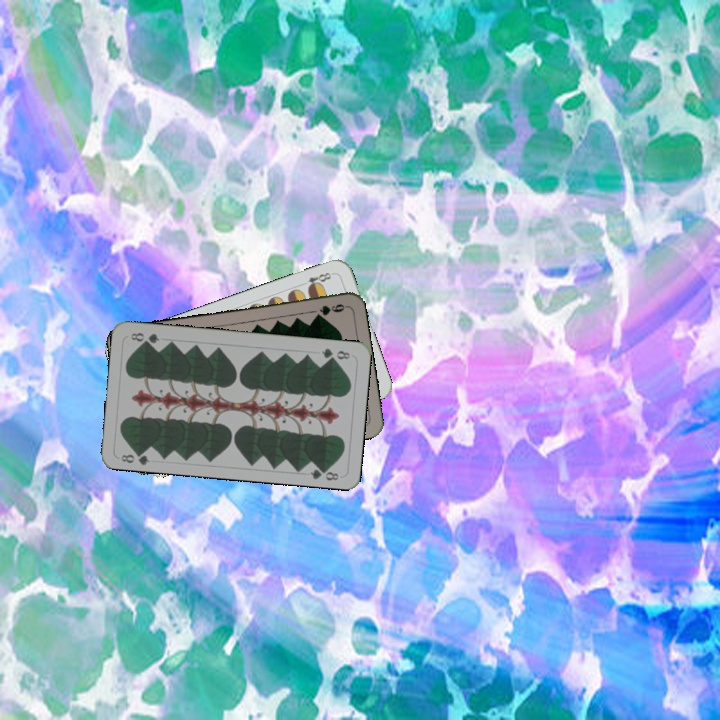E8: (297, 268, 336, 292)
G8: (117, 446, 152, 467), (317, 344, 353, 362)
G9: (315, 300, 349, 318)
